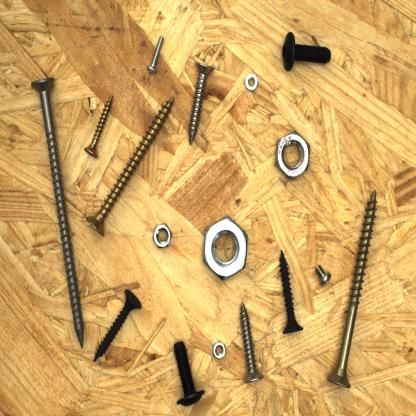screw: (29, 75, 86, 353), (85, 92, 177, 240), (324, 187, 380, 392), (92, 286, 144, 370), (185, 58, 216, 149), (275, 246, 305, 339), (170, 338, 208, 410), (236, 296, 266, 386), (279, 27, 335, 75), (82, 88, 116, 162), (146, 32, 169, 77), (312, 260, 334, 290)
